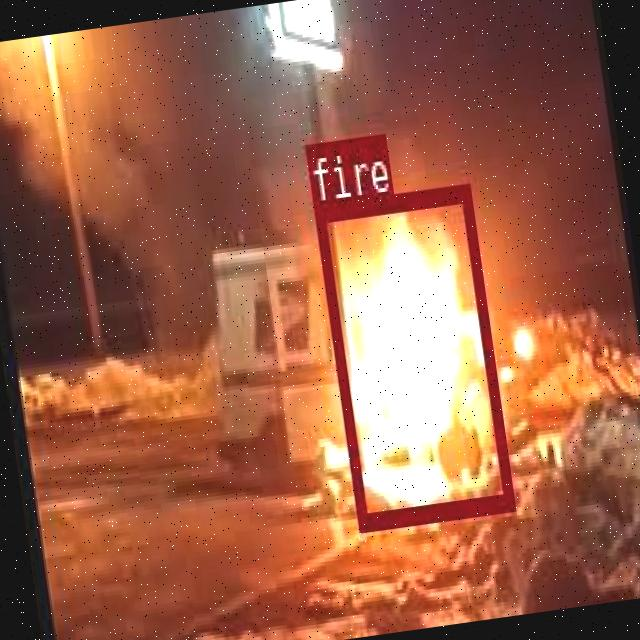fire: (314, 184, 514, 526)
